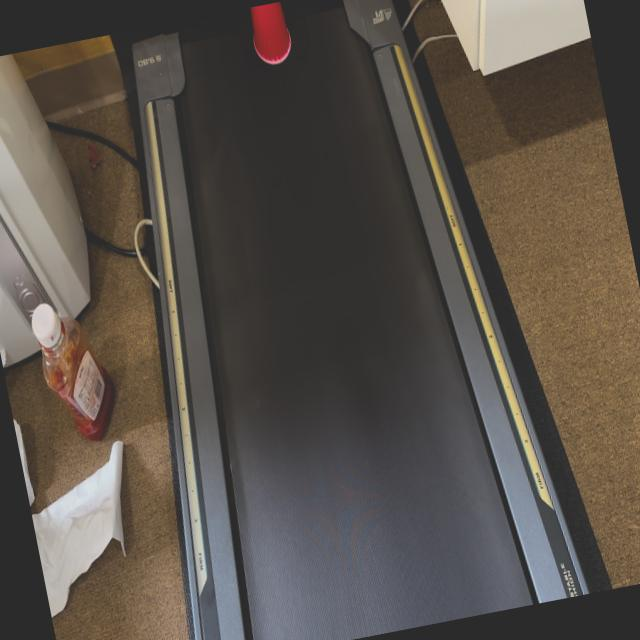Recycle: (244, 1, 296, 68)
